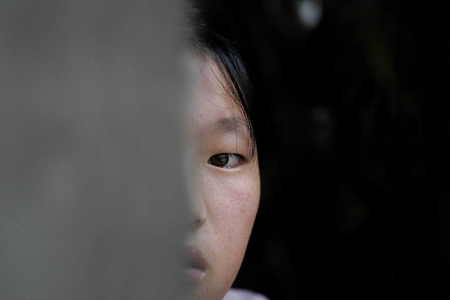face: (86, 50, 259, 299)
